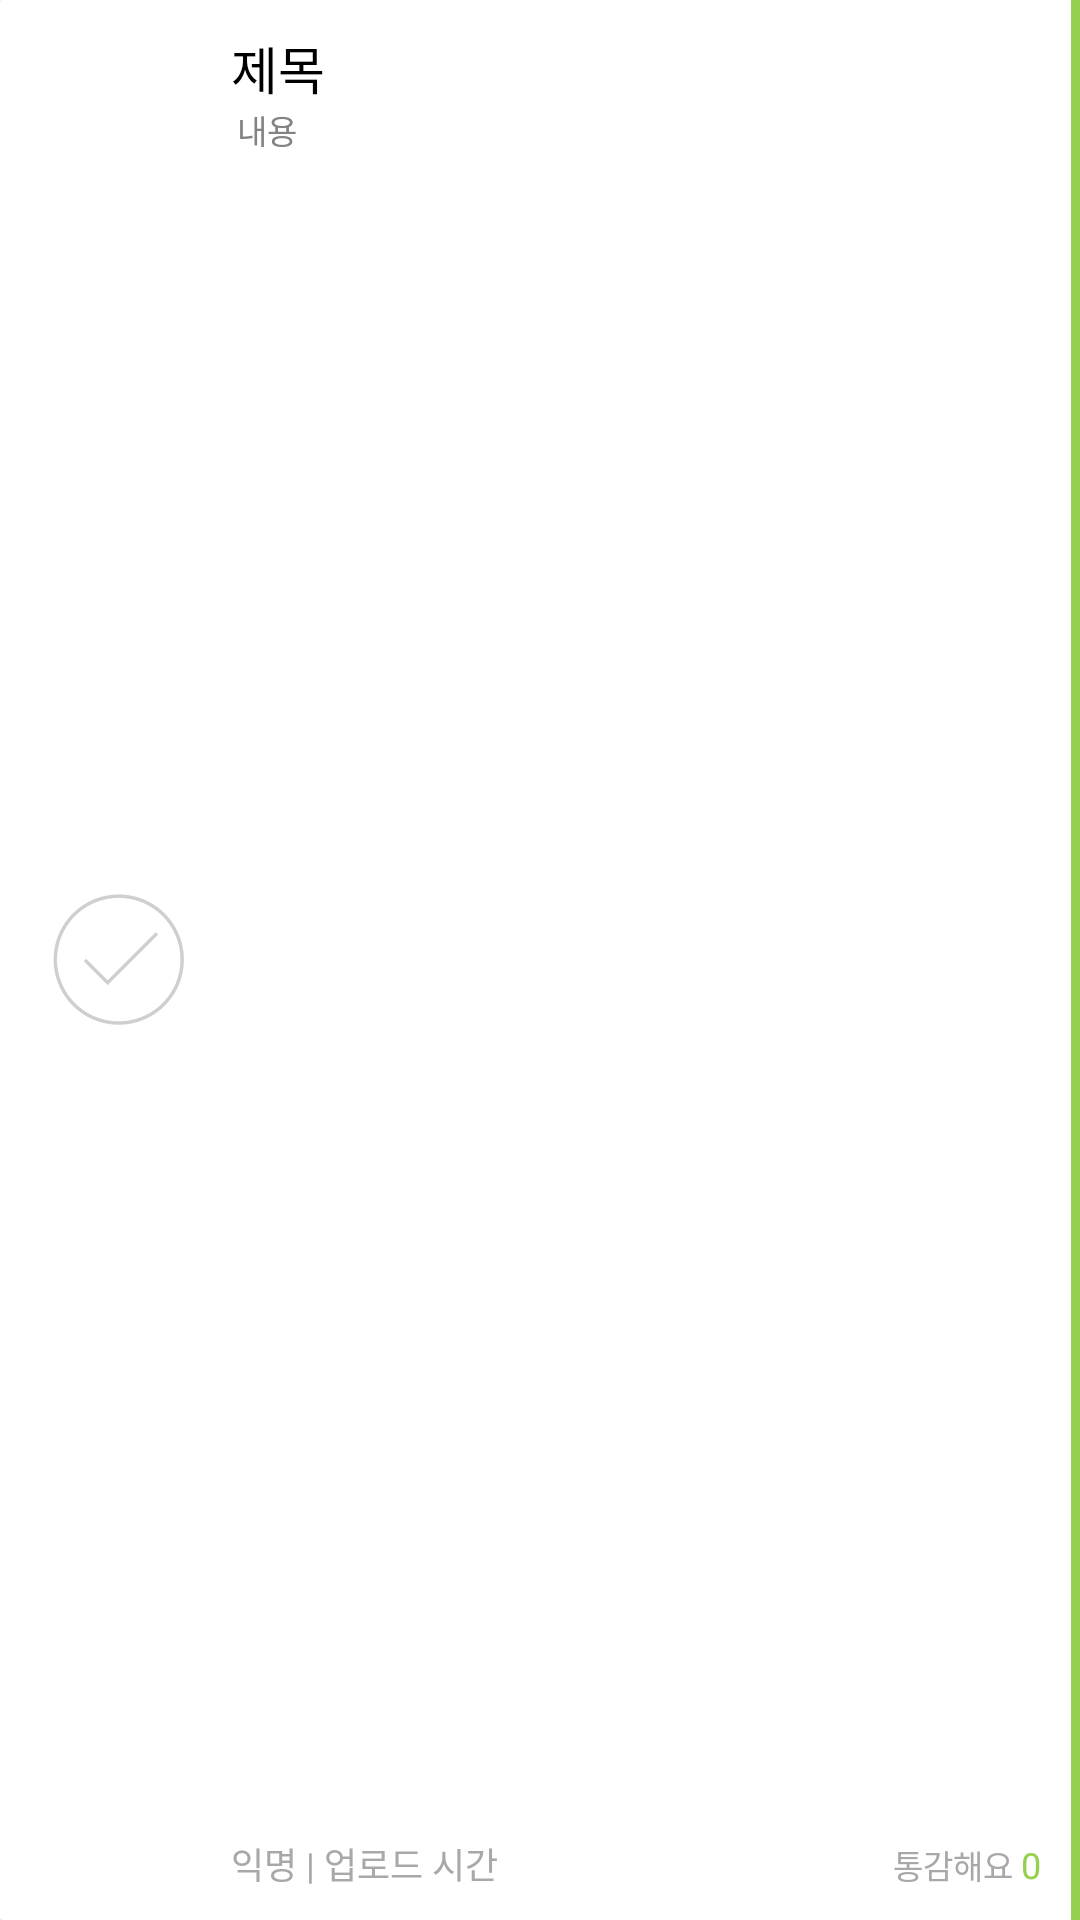

Icon click points for this 1080w x 1920h phone screenshot, format (x=x, y=y):
cardplate isovercome false: (x=119, y=959)
